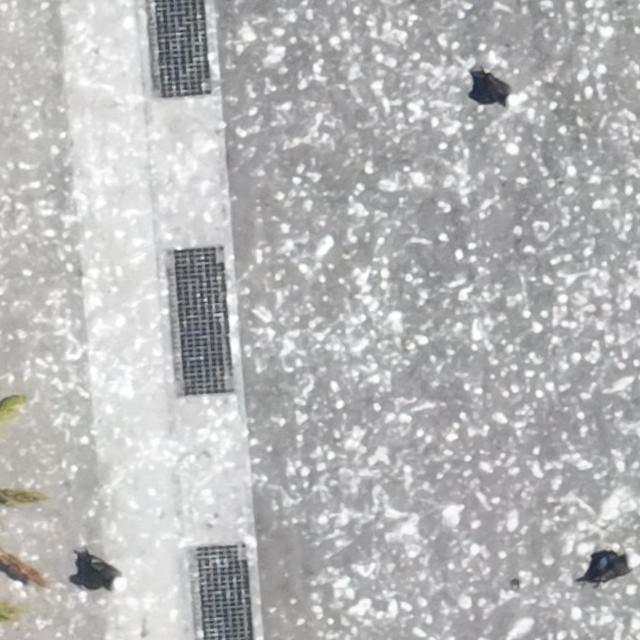umineko: (476, 71, 520, 108), (596, 555, 640, 583), (91, 559, 127, 591)
